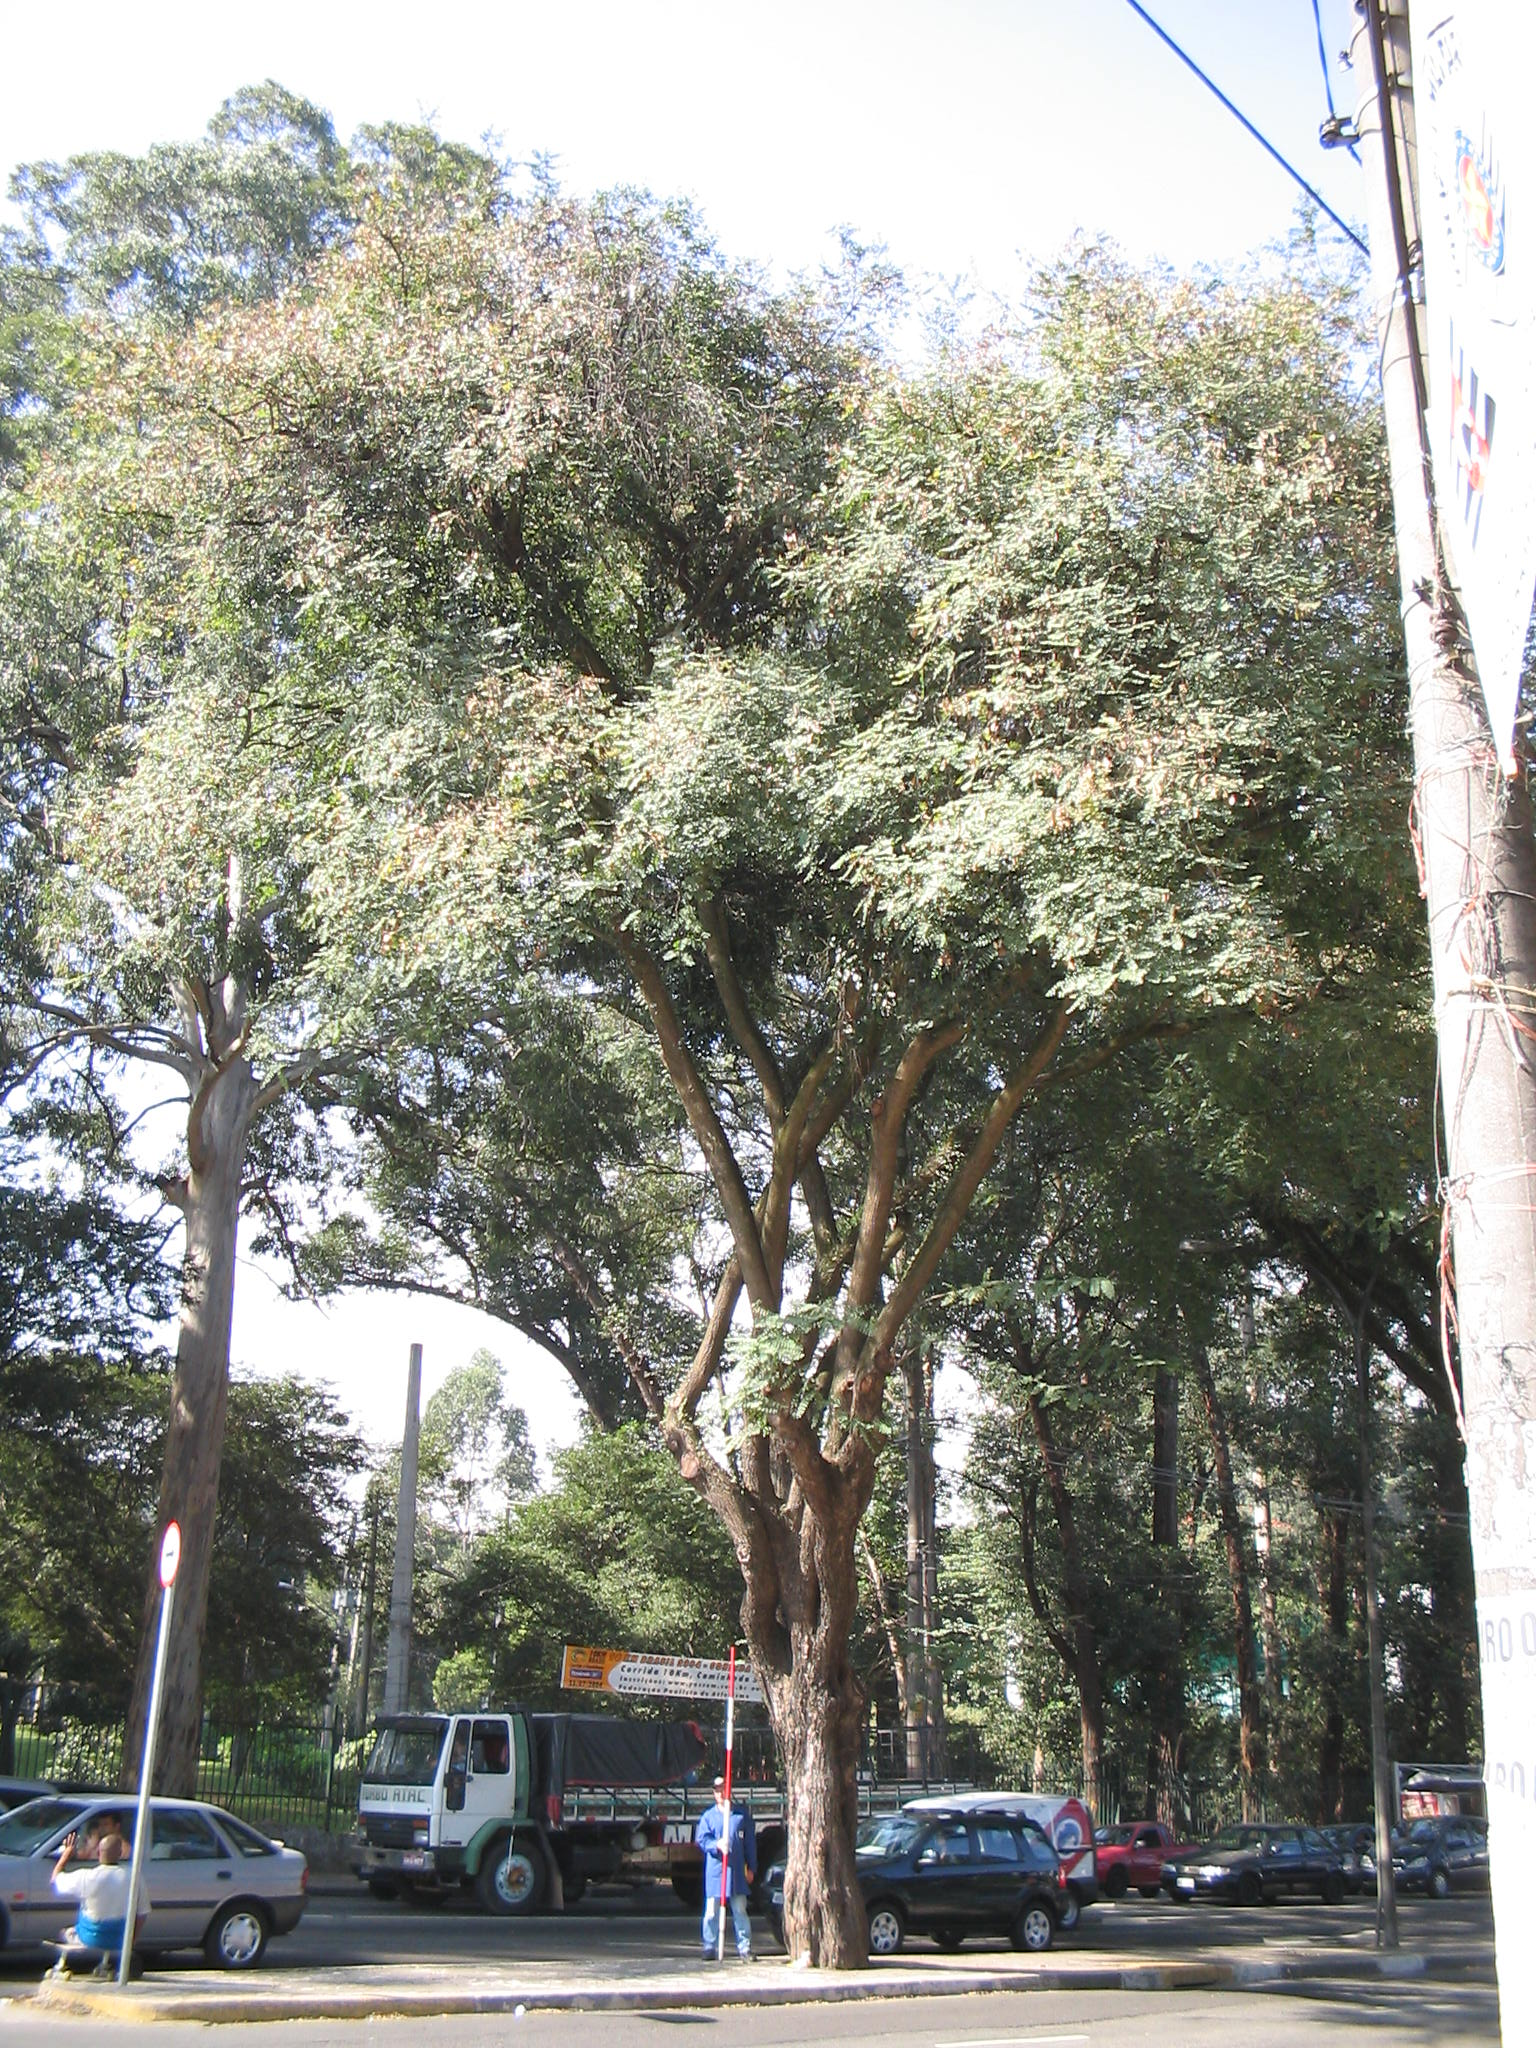crown: (77, 179, 1404, 1147)
stem: (749, 1695, 931, 1971)
stick: (695, 1642, 762, 1971)
tree: (65, 168, 1410, 1979)
